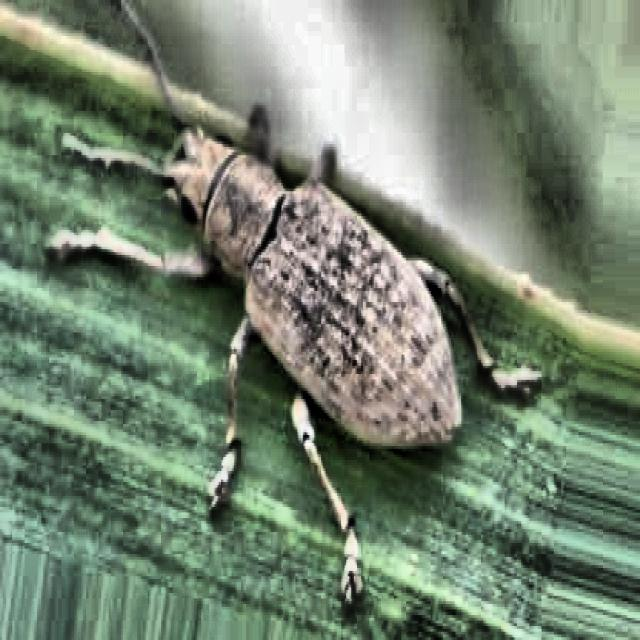Stink bug: (86, 44, 523, 582)
